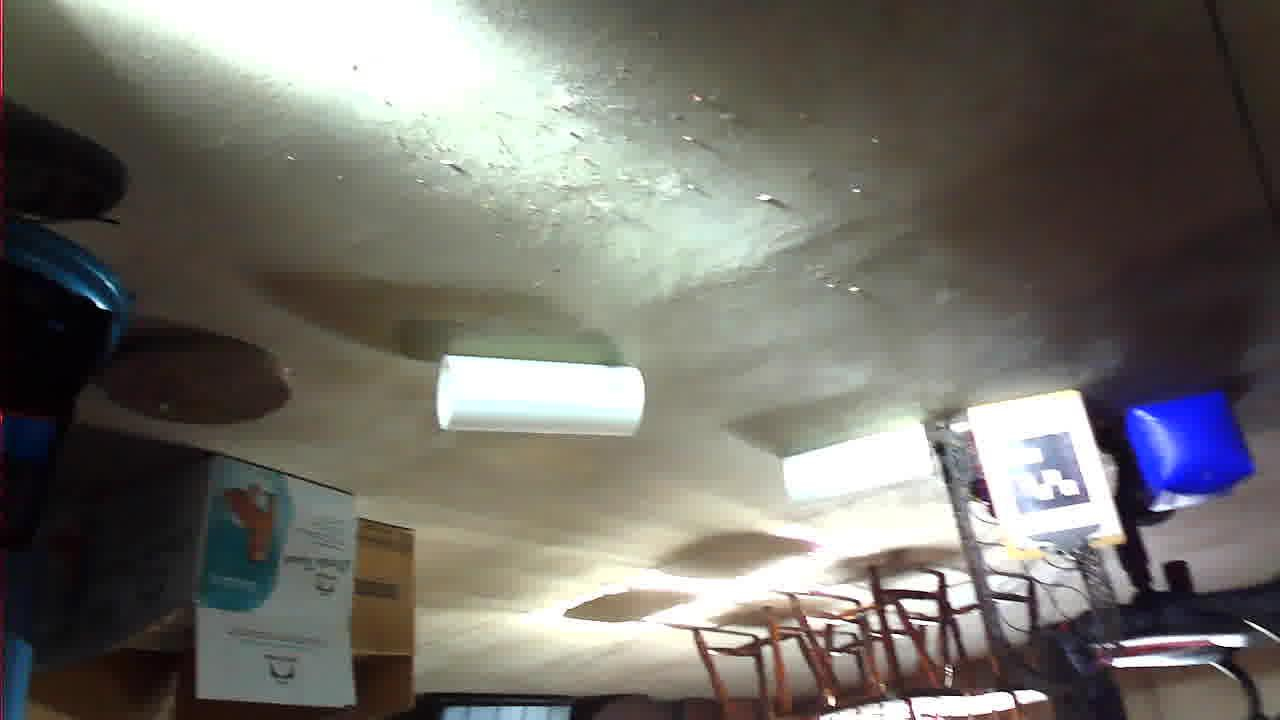coral: (636, 284, 843, 365), (347, 216, 497, 299)
